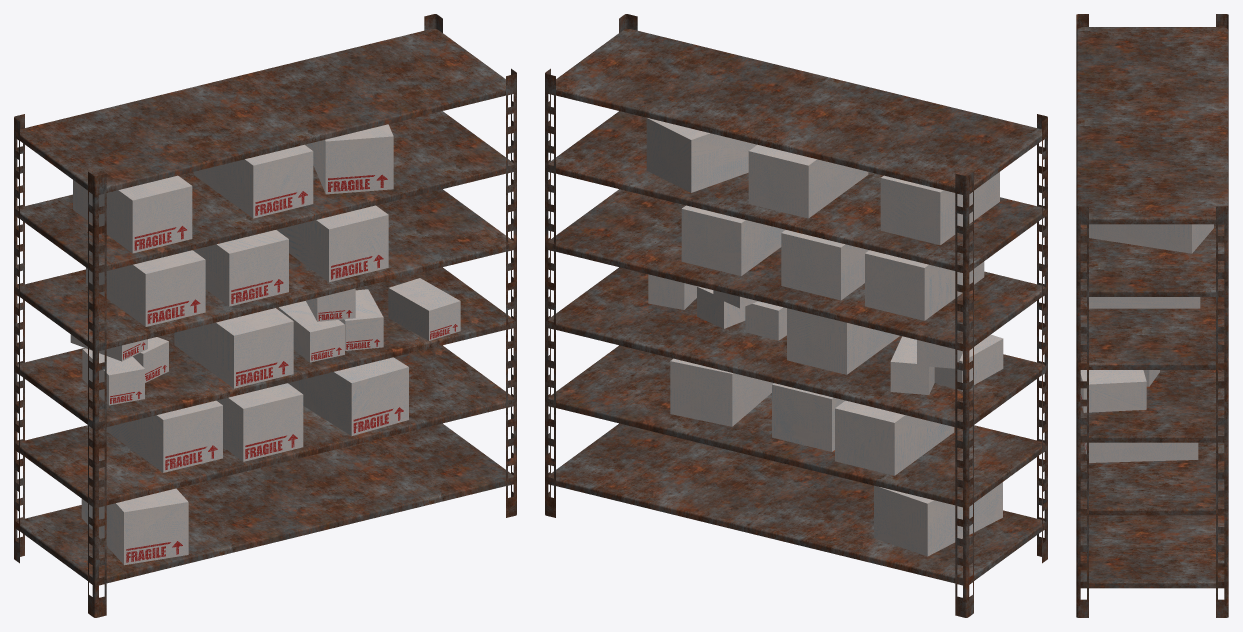
Rendered from SHELVING02.dae.
3 views of the same model, side by side, from view 1: azimuth 30°, elevation 25°; view 2: azimuth 150°, elevation 25°; view 3: azimuth 270°, elevation 25° (orthographic). The views are drawn at different scales.
Parts seen in each view (by area): view 1: group_5, group_0, group_4, group_1, group_3, group_2, group_6, instance_5, instance_12, instance_9, instance_6, instance_11 (+14 smaller); view 2: group_5, group_0, group_2, group_1, group_3, group_4, group_7, instance_3, instance_7, instance_2, instance_8, instance_9 (+14 smaller); view 3: group_5, group_0, group_3, group_1, group_4, group_2, instance_0, instance_1, instance_8, instance_13, instance_12, instance_11 (+2 smaller).
Part boxes in pixels (<box>): group_5: <box>20,29,505,192</box>; group_0: <box>17,423,513,583</box>; group_4: <box>17,111,513,270</box>; group_1: <box>17,345,513,505</box>; group_3: <box>16,189,513,348</box>; group_2: <box>17,267,513,426</box>; group_6: <box>88,172,106,617</box>; instance_5: <box>174,308,293,388</box>; instance_12: <box>288,357,408,435</box>; instance_9: <box>73,175,192,253</box>; instance_6: <box>86,250,205,326</box>; instance_11: <box>276,205,388,282</box>; group_5: <box>556,29,1041,192</box>; group_0: <box>548,423,1044,583</box>; group_2: <box>548,267,1044,426</box>; group_1: <box>548,345,1044,505</box>; group_3: <box>548,189,1045,348</box>; group_4: <box>548,111,1044,270</box>; group_7: <box>955,172,973,617</box>; instance_3: <box>835,400,954,475</box>; instance_7: <box>748,144,868,218</box>; instance_2: <box>874,482,1002,556</box>; instance_8: <box>646,118,756,192</box>; instance_9: <box>880,172,999,245</box>; group_5: <box>1076,27,1228,224</box>; group_0: <box>1080,515,1224,588</box>; group_3: <box>1080,297,1224,369</box>; group_1: <box>1080,442,1224,515</box>; group_4: <box>1080,224,1224,296</box>; group_2: <box>1080,370,1224,442</box>; instance_0: <box>1076,206,1088,617</box>; instance_1: <box>1216,206,1228,617</box>; instance_8: <box>1089,224,1213,253</box>; instance_13: <box>1080,370,1146,412</box>; instance_12: <box>1084,442,1198,462</box>; instance_11: <box>1089,297,1200,308</box>.
Bounding box in the file's own units: 72.12 × 24.12 × 72.
